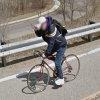Bicycle: (21, 45, 94, 93)
